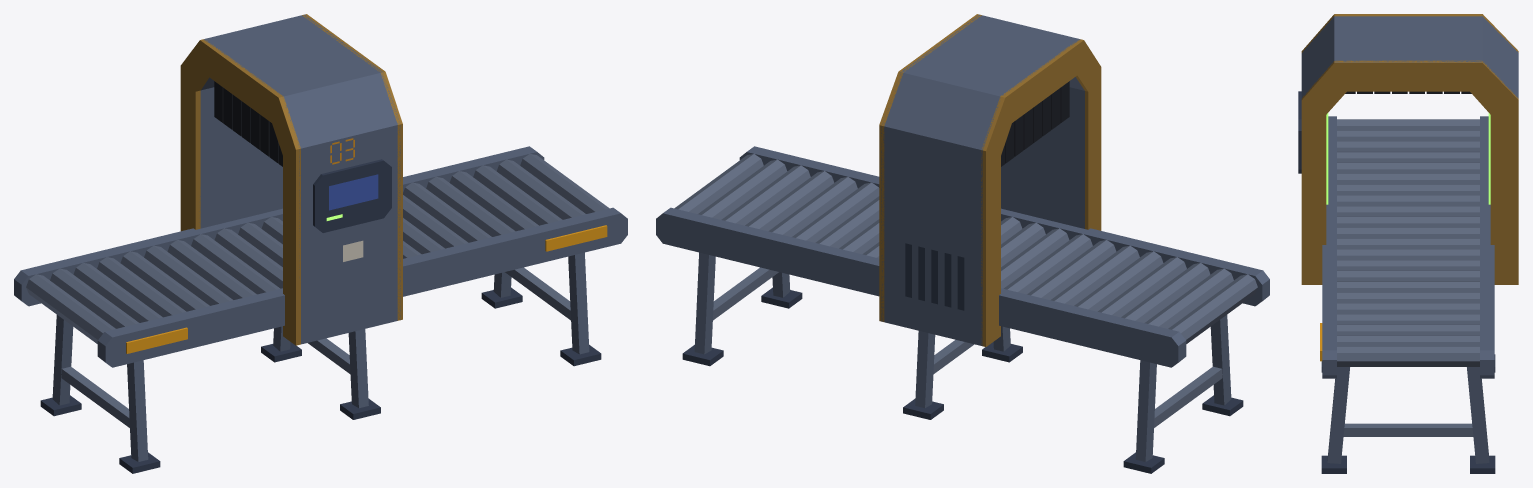
Rendered from wh_conveyor_scanner.glb.
3 views of the same model, side by side, from view 1: azimuth 30°, elevation 25°; view 2: azimuth 150°, elevation 25°; view 3: azimuth 270°, elevation 25° (orthographic). The views are drawn at different scales.
Visible parts, largest first — view 1: roller_channel, roller, portal_rim, foot, split_curtain, pinch_guard, screen; view 2: roller_channel, roller, portal_rim, foot, split_curtain; view 3: roller, roller_channel, portal_rim, foot, ready, split_curtain.
Part boxes in pixels (x1,y1,x2,y2): roller_channel: [14, 14, 627, 461]; roller: [26, 154, 609, 427]; portal_rim: [180, 14, 402, 345]; foot: [40, 159, 601, 473]; split_curtain: [214, 81, 282, 166]; pinch_guard: [126, 225, 607, 353]; screen: [329, 174, 378, 210]; roller_channel: [656, 14, 1269, 461]; roller: [674, 154, 1257, 427]; portal_rim: [879, 14, 1101, 346]; foot: [682, 243, 1243, 473]; split_curtain: [1001, 81, 1069, 166]; roller: [1337, 119, 1479, 436]; roller_channel: [1301, 16, 1518, 463]; portal_rim: [1301, 14, 1518, 284]; foot: [1298, 91, 1495, 473]; ready: [1326, 113, 1490, 204]; split_curtain: [1345, 91, 1471, 93].
Size of the model in its own units: 3.6 by 2.2 by 1.4.
